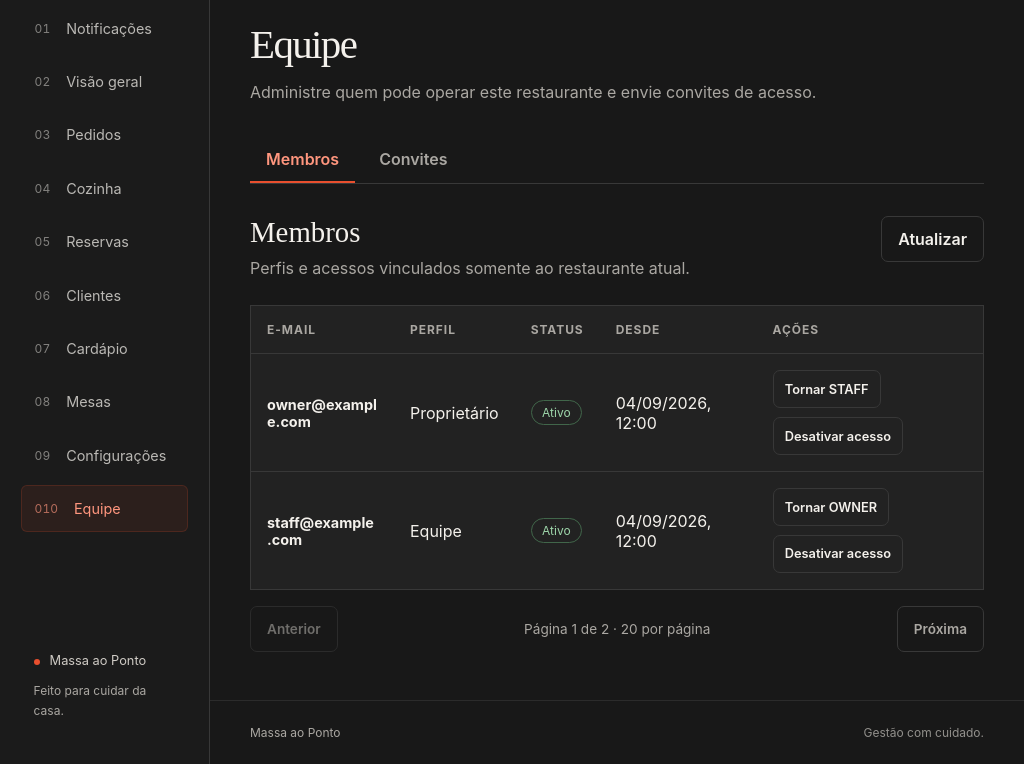
it: Users and Memberships UI › shows OWNER navigation, ordered member fields and paginates with server metadata
(page scrolled)
Expected: the link "010 Equipe" is shown, [21,485,188,532]
Expected: the text "Proprietário" is shown, [394,354,515,472]
Click the button "Próxima". click: (940, 629)
box: [897,606,984,652]
(page scrolled)
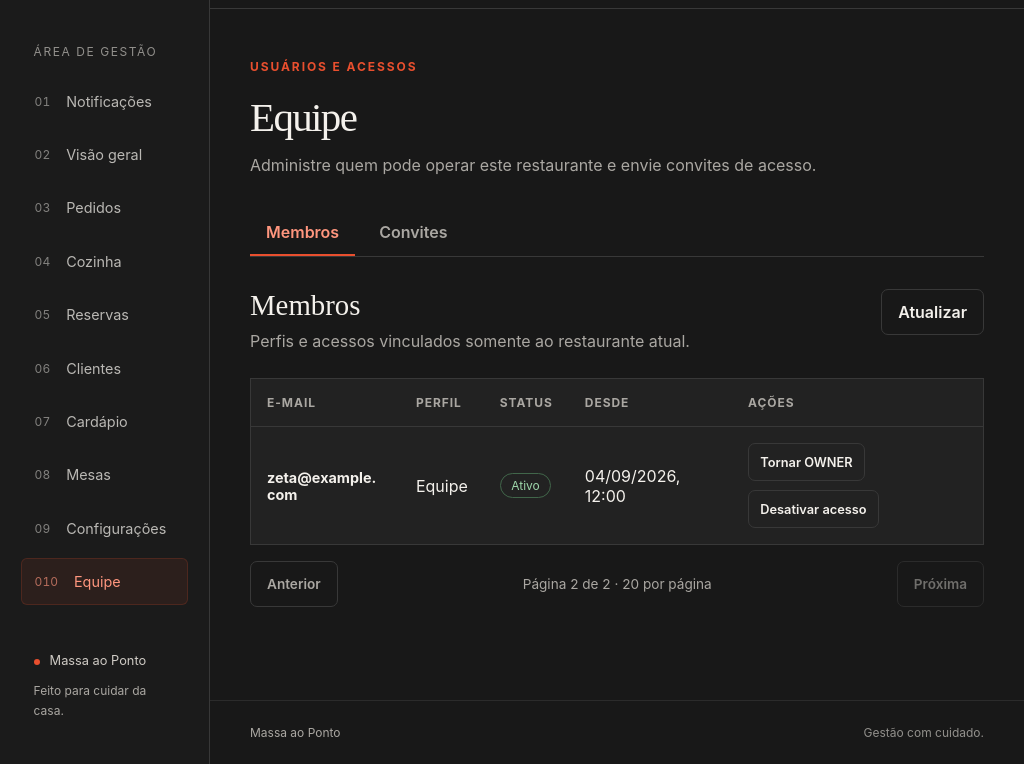
Result: the column heading "zeta@example.com" is shown at [250,427,400,545]
